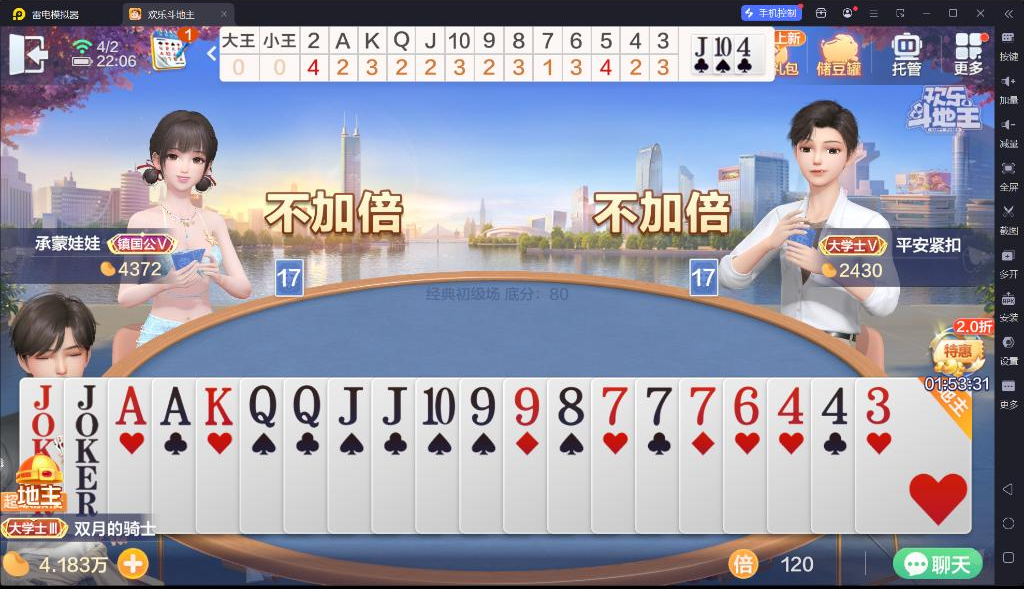A: (156, 383, 193, 429), (112, 383, 148, 429)
J: (377, 381, 411, 426), (332, 382, 365, 428), (693, 35, 709, 58)
JOKER: (29, 383, 63, 473)
K: (202, 382, 235, 428)
Q: (289, 383, 323, 429), (245, 383, 279, 429)
eight: (554, 384, 587, 428)
four: (773, 381, 806, 426), (818, 383, 850, 426), (736, 36, 752, 58)
joker: (72, 382, 102, 467)
nine: (465, 385, 498, 428), (510, 385, 542, 428)
seven: (596, 382, 630, 428), (685, 381, 717, 427), (643, 382, 673, 428)
six: (730, 381, 760, 427)
ten: (419, 384, 456, 428), (714, 36, 733, 57)
three: (862, 382, 892, 426)
